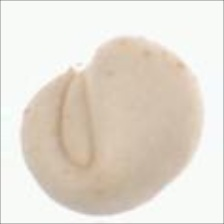L5: (56, 65, 99, 174), (129, 166, 187, 211)
L6: (16, 33, 208, 217)
